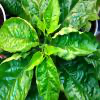Bell_pepper leaf: (51, 29, 97, 59), (0, 17, 40, 49), (34, 55, 61, 99), (44, 0, 60, 33)
